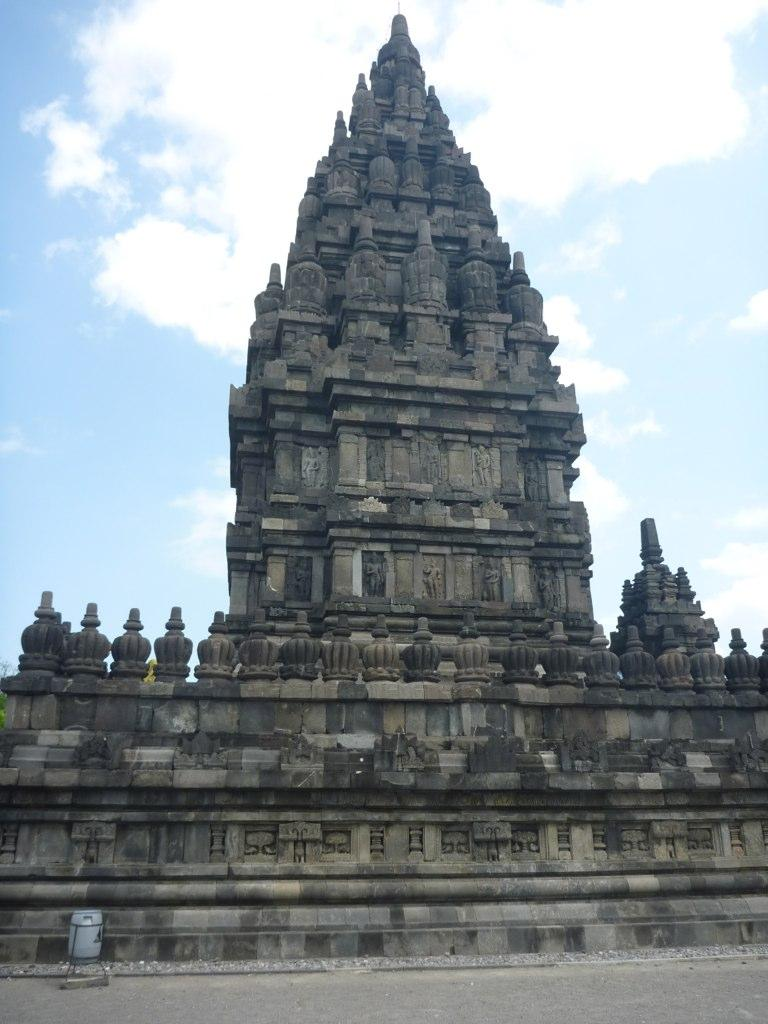temple: (2, 3, 767, 969), (220, 3, 602, 651)
